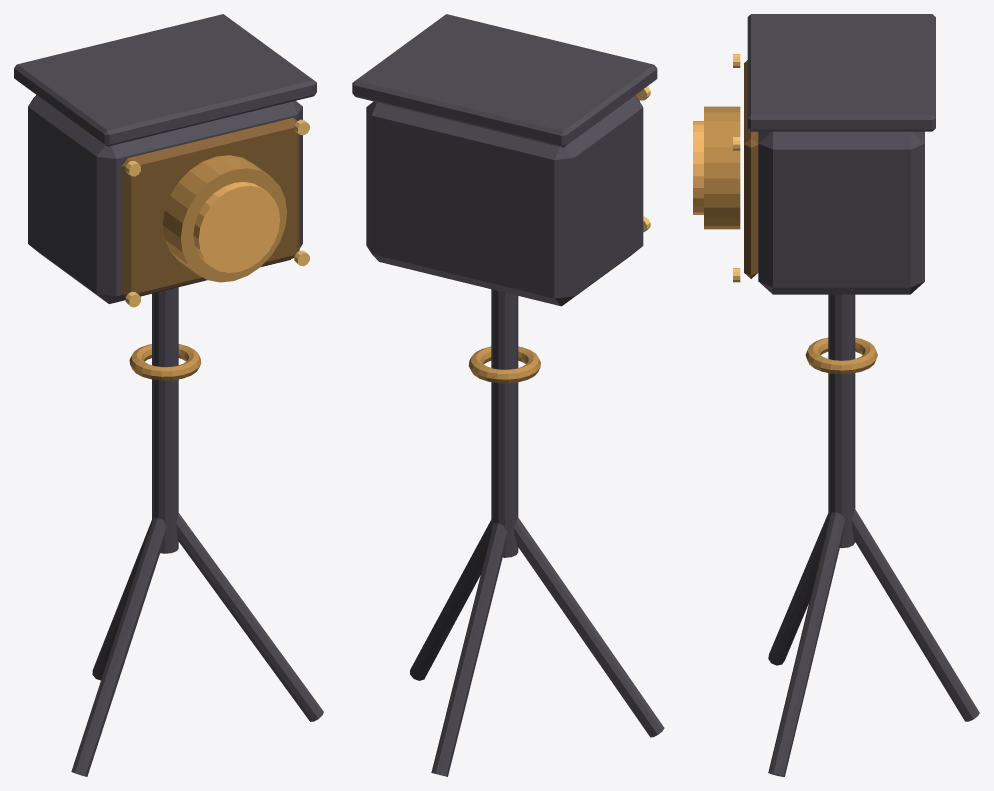
Rendered from SM_Stage3_StageSpotlight.fbx.
3 renders of one model, left to right at view 1: azimuth 30°, elevation 25°; view 2: azimuth 150°, elevation 25°; view 3: azimuth 270°, elevation 25°, orthographic.
Parts seen in each view (by area): view 1: SM_Stage3_StageSpotlight; view 2: SM_Stage3_StageSpotlight; view 3: SM_Stage3_StageSpotlight.
Boxes of the visible parts, left/top/right/bottom form: SM_Stage3_StageSpotlight: left=14, top=14, right=323, bottom=776; SM_Stage3_StageSpotlight: left=352, top=14, right=664, bottom=776; SM_Stage3_StageSpotlight: left=693, top=14, right=979, bottom=776.
Bounding box in the file's own units: 80.11 × 79.1 × 200.
